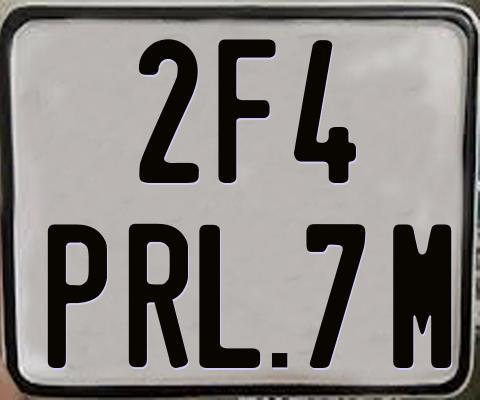2: (136, 36, 199, 185)
4: (294, 39, 362, 183)
7: (305, 224, 368, 371)
F: (215, 38, 278, 185)
L: (199, 222, 266, 368)
M: (390, 223, 454, 369)
P: (46, 224, 106, 371)
R: (128, 221, 191, 365)
